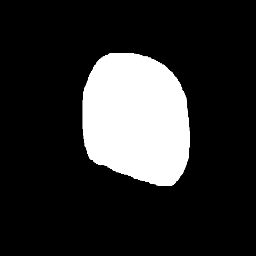mass: (82, 56, 185, 173)
